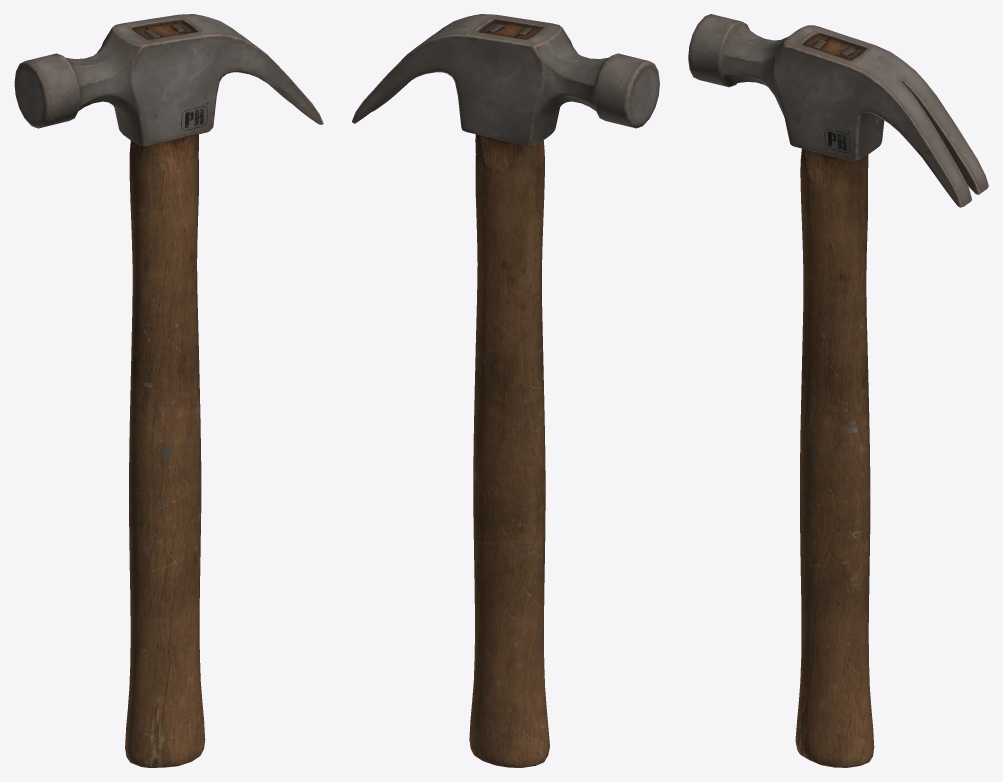
The model's file is hammer-transformed.glb.
The picture shows the model from 3 angles, left to right: view 1: azimuth 30°, elevation 25°; view 2: azimuth 150°, elevation 25°; view 3: azimuth 330°, elevation 25°; orthographic projection. The views are drawn at different scales.
Parts seen in each view (by area): view 1: wooden_hammer_01; view 2: wooden_hammer_01; view 3: wooden_hammer_01.
Part boxes in pixels (left/top/right/bottom): wooden_hammer_01: left=14, top=14, right=323, bottom=767; wooden_hammer_01: left=352, top=14, right=659, bottom=767; wooden_hammer_01: left=688, top=14, right=988, bottom=767.
Size of the model in its own units: 0.1118 by 0.2792 by 0.0234.
1 material, 1 textured.
